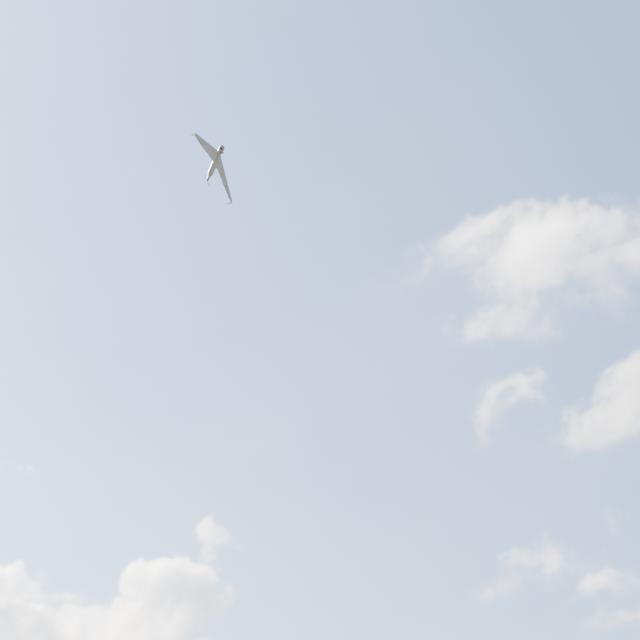Airaplan: (190, 133, 232, 205)
